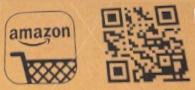Finder pattern: (103, 56, 131, 85), (152, 1, 181, 26), (96, 4, 124, 29)
